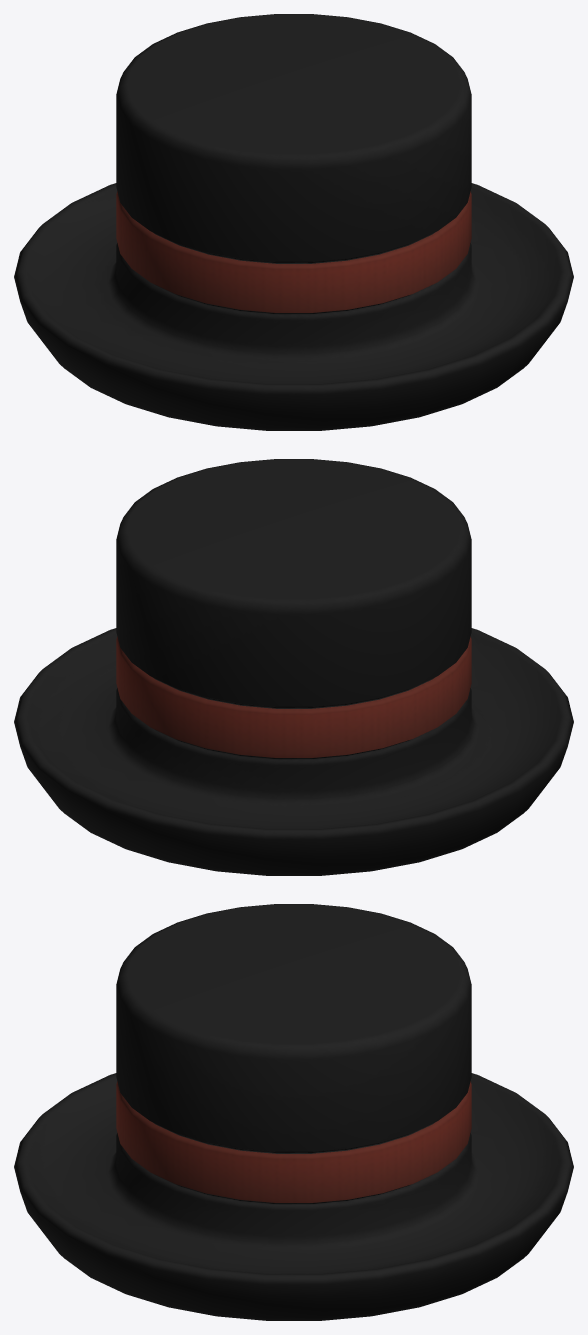
The model's file is ChristmasRoom_HatB.fbx.
The picture shows the model from 3 angles, top to bottom: view 1: azimuth 30°, elevation 25°; view 2: azimuth 150°, elevation 25°; view 3: azimuth 270°, elevation 25°; orthographic projection.
Parts seen in each view (by area): view 1: ChristmasRoom_HatB; view 2: ChristmasRoom_HatB; view 3: ChristmasRoom_HatB.
Boxes of the visible parts, x1,y1,x2,y2 form: ChristmasRoom_HatB: [14, 14, 573, 430]; ChristmasRoom_HatB: [14, 459, 573, 875]; ChristmasRoom_HatB: [14, 904, 573, 1320].
Bounding box in the file's own units: 24.24 × 11.69 × 24.37.
